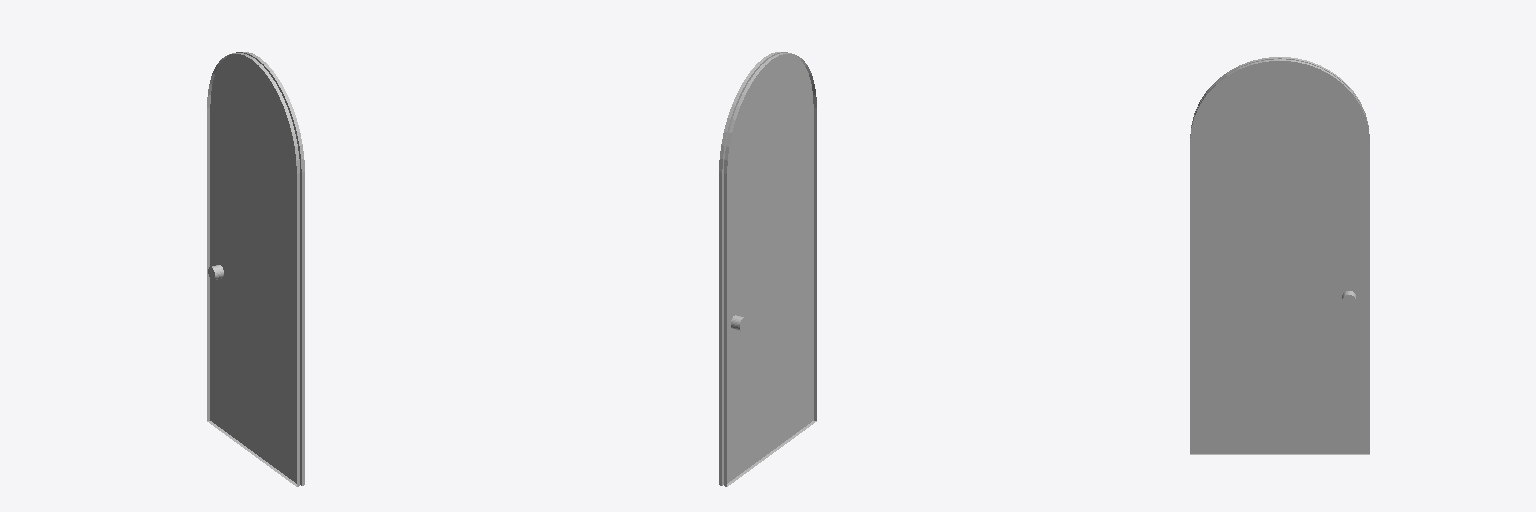
The model's file is PUERTA_DORMITORIO.obj.
3 renders of one model, left to right at view 1: azimuth 30°, elevation 25°; view 2: azimuth 150°, elevation 25°; view 3: azimuth 270°, elevation 25°, orthographic.
Visible parts, largest first — view 1: Puerta02.001; view 2: Puerta02.001; view 3: Puerta02.001.
Boxes of the visible parts, box(x1,y1,x2,y2) form: Puerta02.001: box(207, 52, 304, 486); Puerta02.001: box(719, 52, 816, 486); Puerta02.001: box(1190, 57, 1369, 454).
Bounding box in the file's own units: 0.1175 × 2.27 × 0.9366.